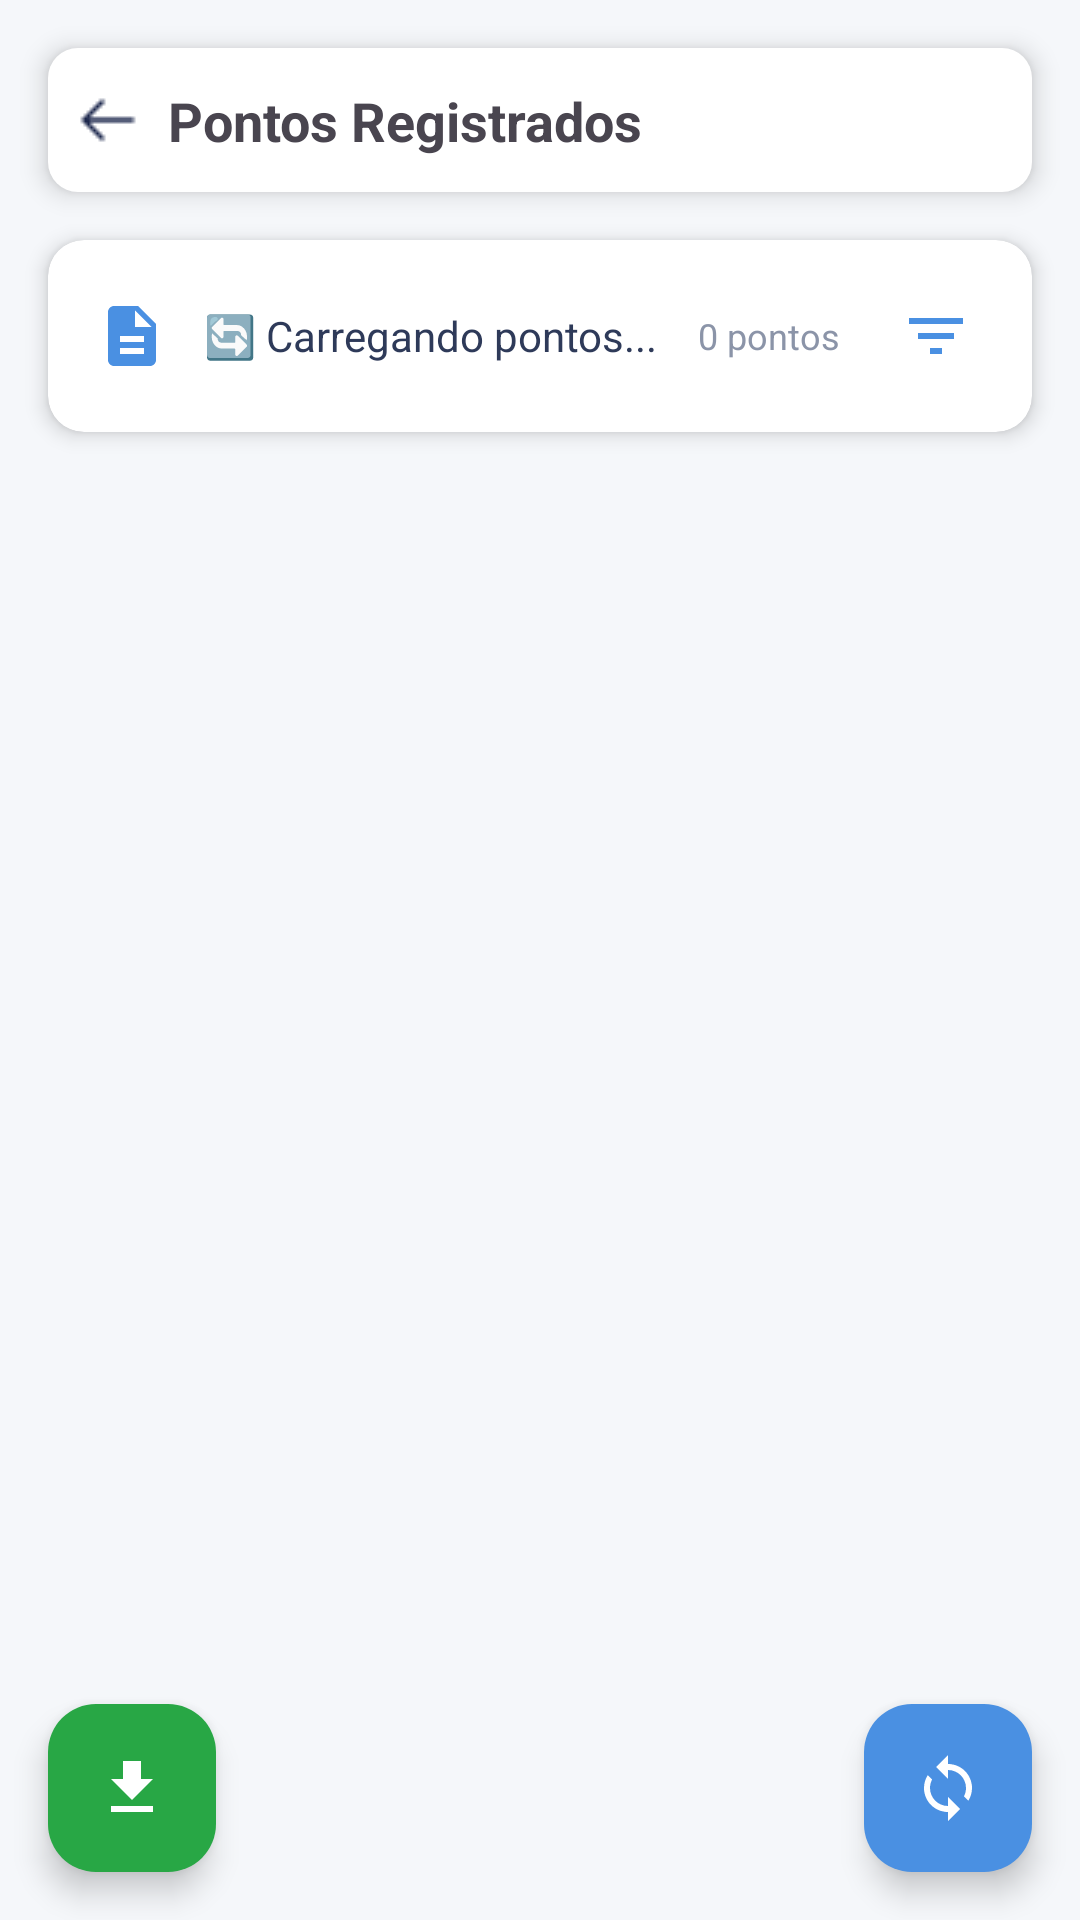

Icon bounding boxes for this 1080×1920 phone screenshot, format {"left": x1, "top": y1, "right": x2, "bottom": y2}:
arrowleft: {"left": 80, "top": 98, "right": 136, "bottom": 142}
export: {"left": 48, "top": 1704, "right": 216, "bottom": 1872}
filter: {"left": 909, "top": 318, "right": 963, "bottom": 354}
report: {"left": 108, "top": 306, "right": 156, "bottom": 366}
sync: {"left": 864, "top": 1704, "right": 1032, "bottom": 1872}
